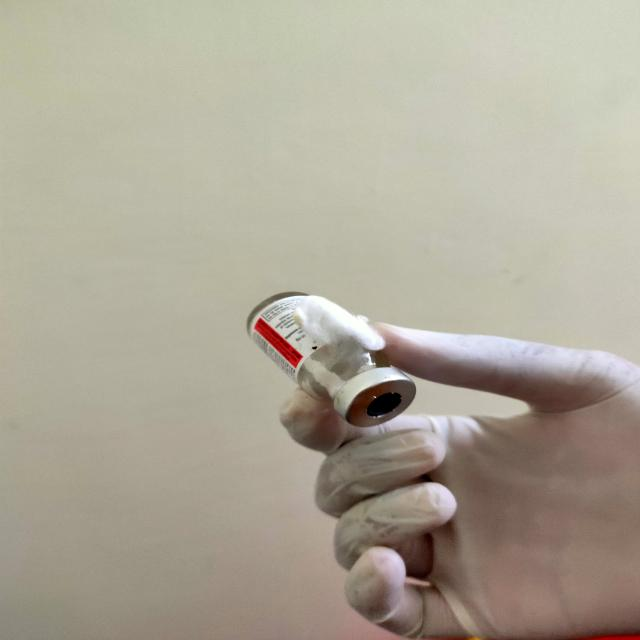B3: (246, 288, 408, 430), (297, 295, 388, 350)
